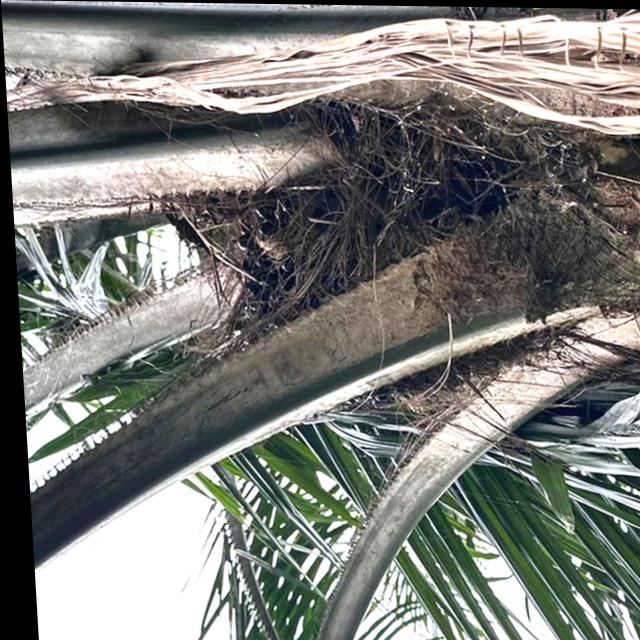unripe: (226, 200, 501, 402)
